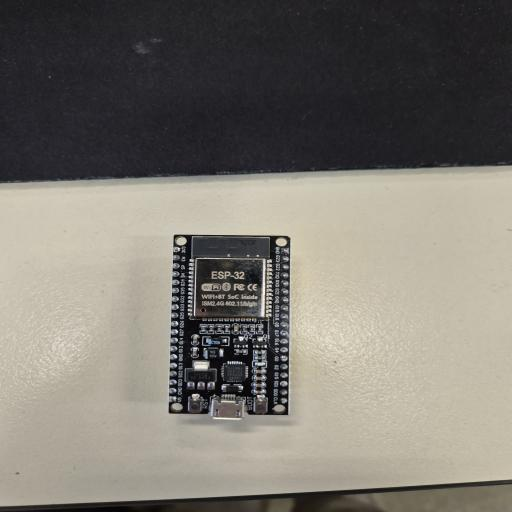esp32-dev: (173, 232, 293, 420)
